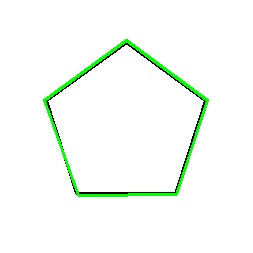line_segment: (44, 40, 208, 196)
